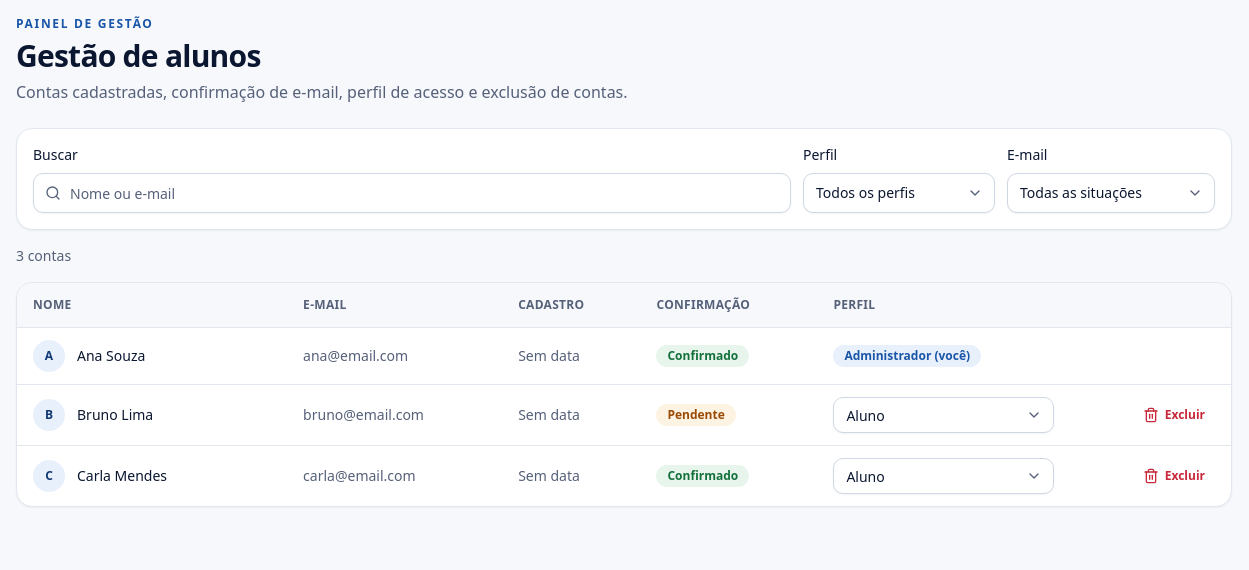
it: TelaAdminAlunos › cancelar a confirmacao mantem o perfil
This screenshot has width=1249, height=570.
Select "Administrador" in the dropdown named "Perfil de Bruno Lima" at (944, 414), box [833,396,1054,432]
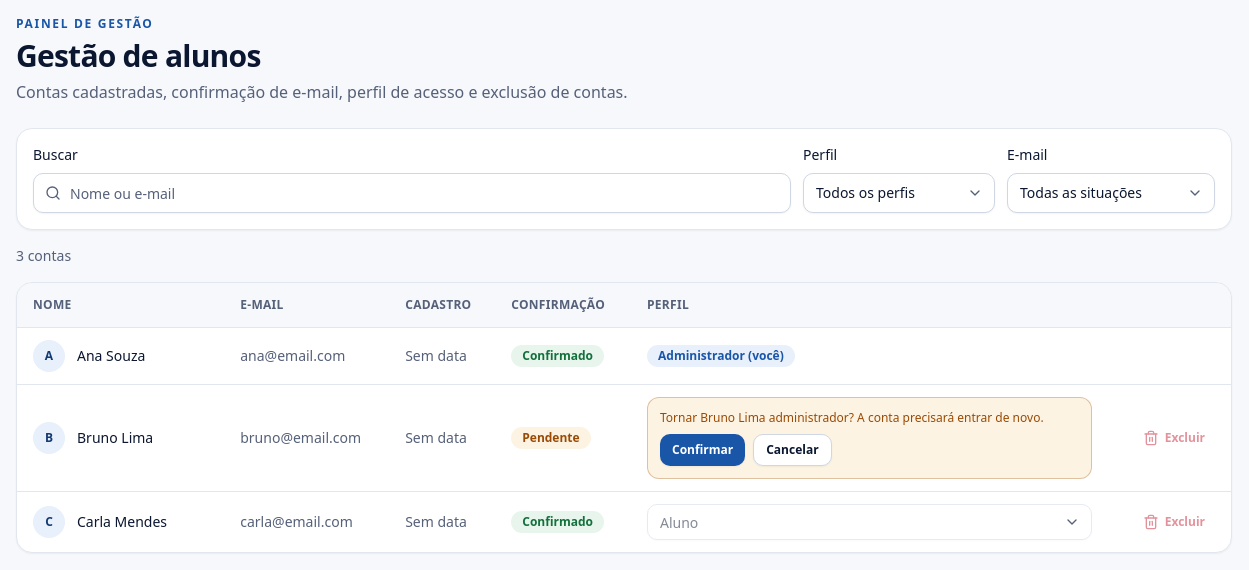
Click the button "Cancelar" at (792, 450), box [753,434,832,466]
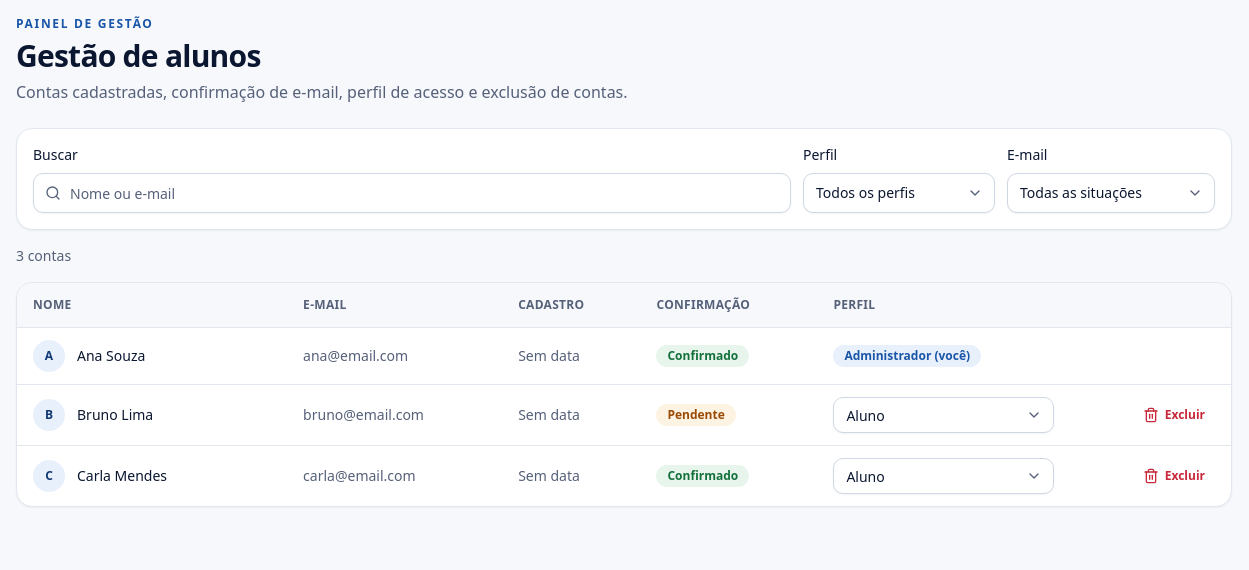
Result: the dropdown named "Perfil de Bruno Lima" shows "Aluno" at [833,396,1054,432]
